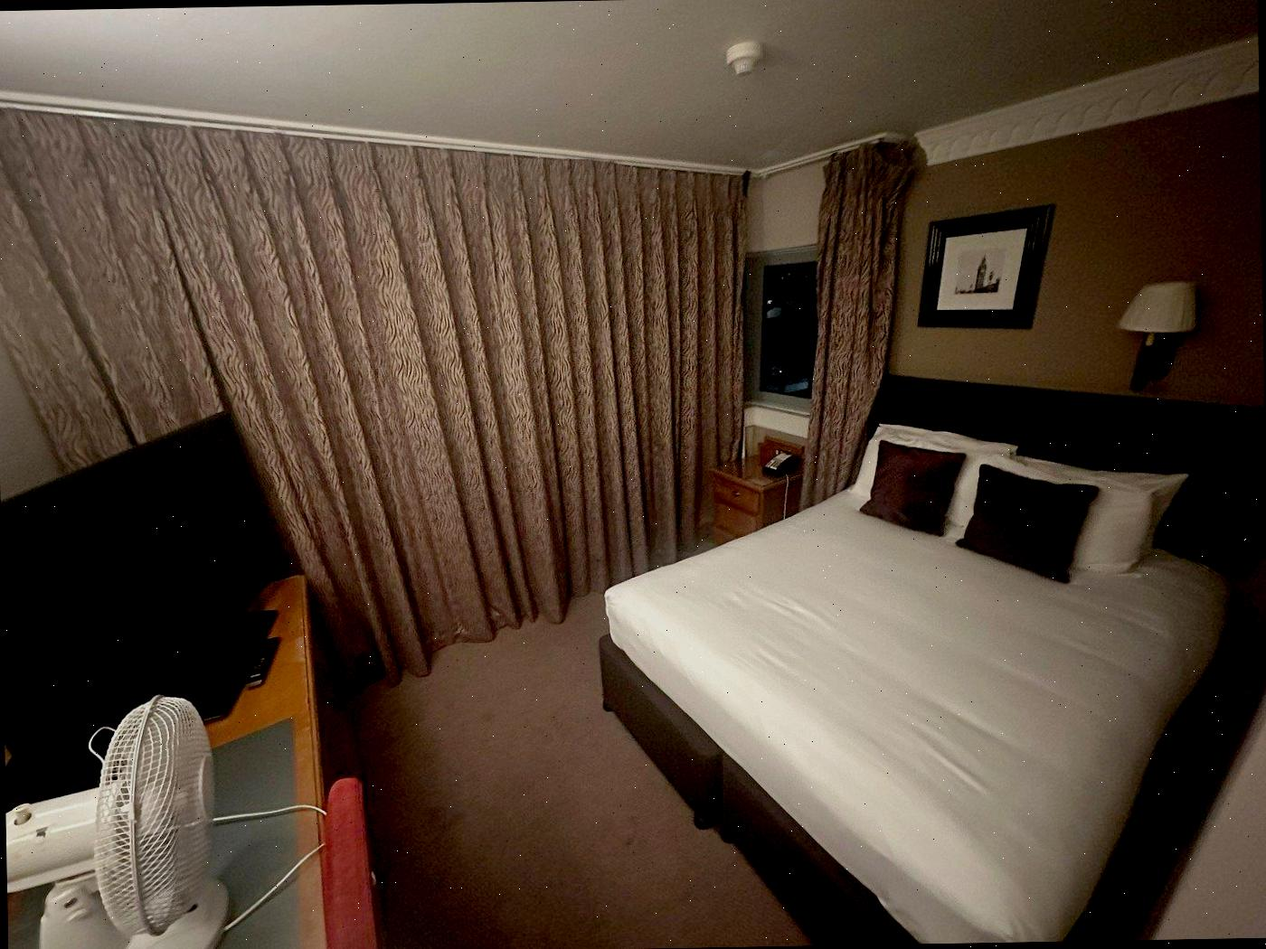clean_bed: (611, 371, 1264, 944)
clean_floor: (328, 601, 802, 943)
lamp: (1105, 279, 1192, 408)
organised_pillow: (846, 424, 1176, 584)
organized table: (9, 572, 334, 949)
